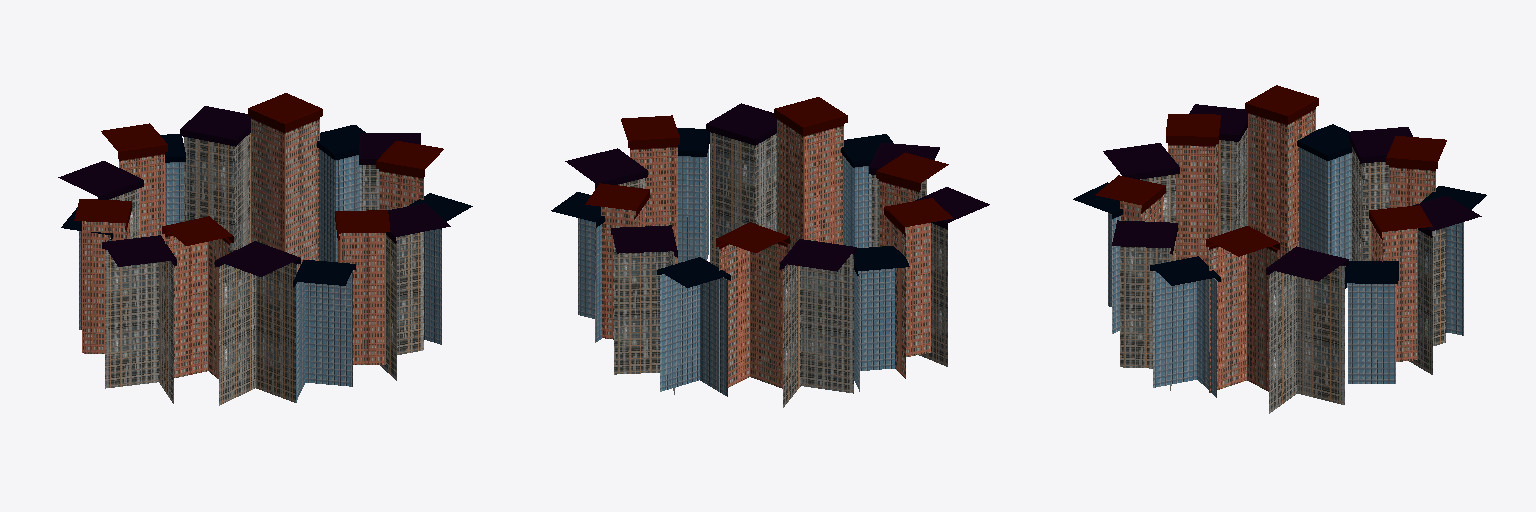
The picture shows the model from 3 angles: view 1: azimuth 30°, elevation 25°; view 2: azimuth 150°, elevation 25°; view 3: azimuth 270°, elevation 25°; orthographic projection.
Parts seen in each view (by area): view 1: Cone.004; view 2: Cone.004; view 3: Cone.004.
Part boxes in pixels (x1,y1,x2,y2): Cone.004: (58,93,472,405); Cone.004: (551,97,989,407); Cone.004: (1073,85,1486,413).
Bounding box in the file's own units: 1899 × 805 × 1859.
1 materials, 1 textured.